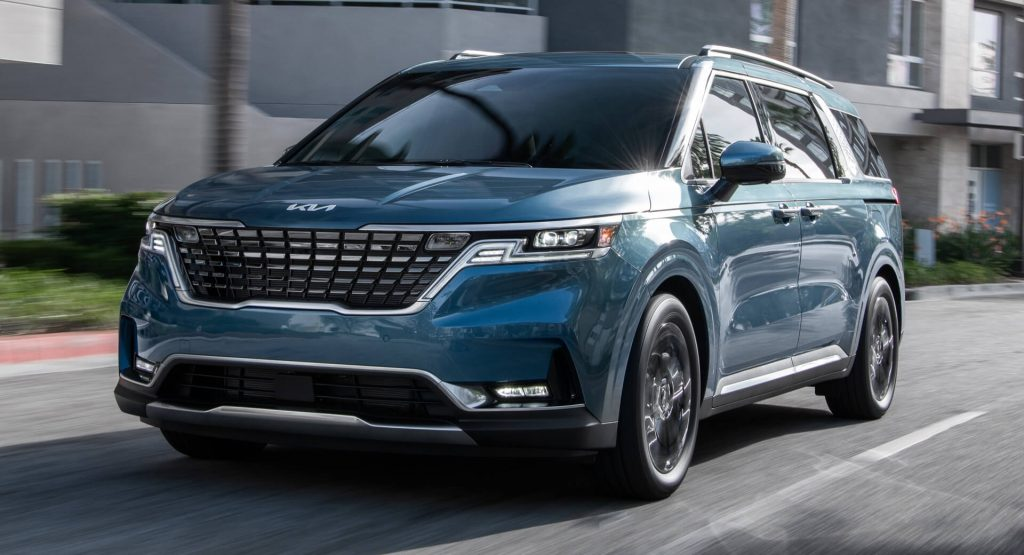car: (112, 42, 906, 501)
